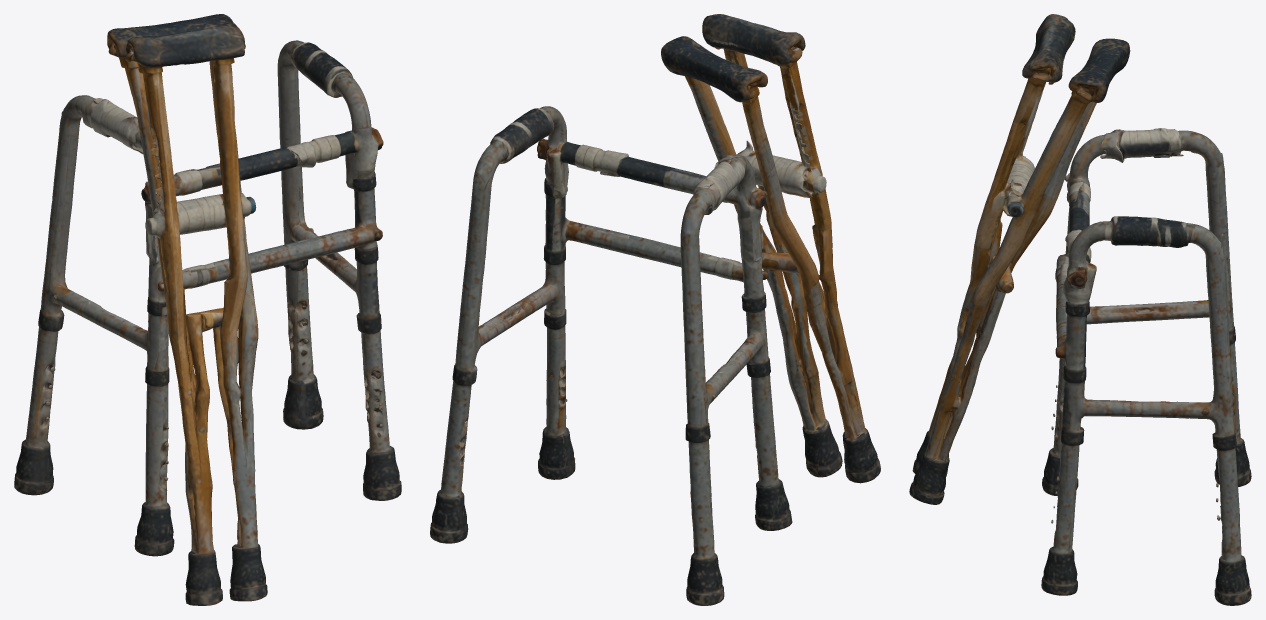
Rendered from Crutches.fbx.
3 renders of one model, left to right at view 1: azimuth 30°, elevation 25°; view 2: azimuth 150°, elevation 25°; view 3: azimuth 270°, elevation 25°, orthographic. The views are drawn at different scales.
Visible parts, largest first — view 1: texture_mapping; view 2: texture_mapping; view 3: texture_mapping.
Boxes of the visible parts, x1,y1,x2,y2 form: texture_mapping: (14, 14, 401, 605); texture_mapping: (430, 14, 880, 605); texture_mapping: (909, 14, 1251, 605).
Bounding box in the file's own units: 0.6107 × 0.6608 × 1.
Materials: 1 (1 with a texture image).
